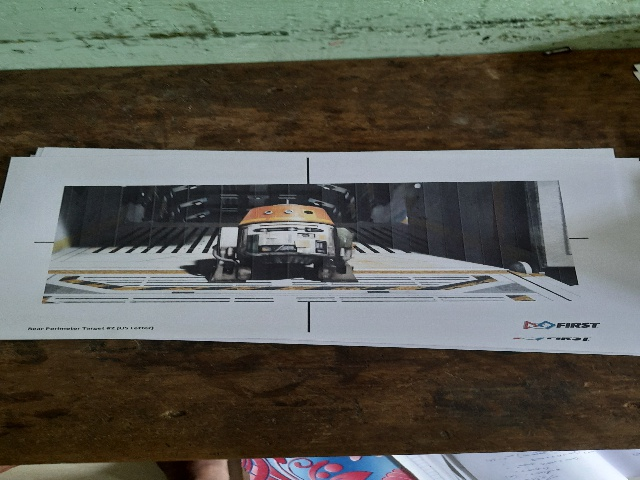rept2: (25, 149, 610, 352)
